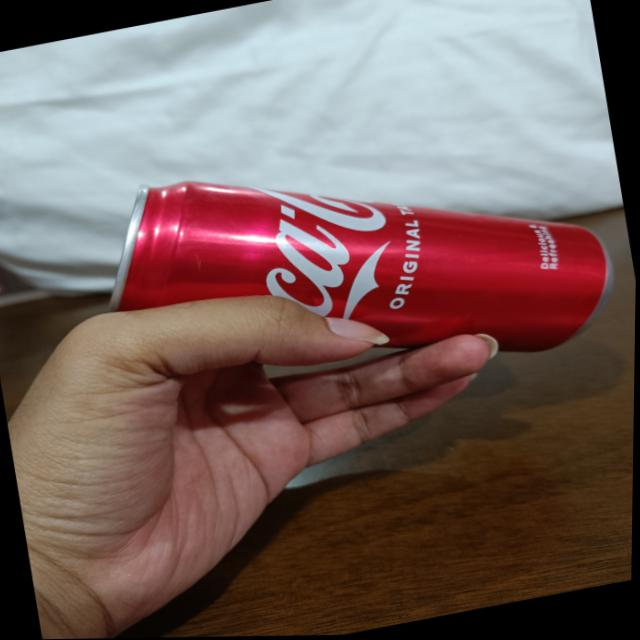coke: (101, 105, 619, 424)
